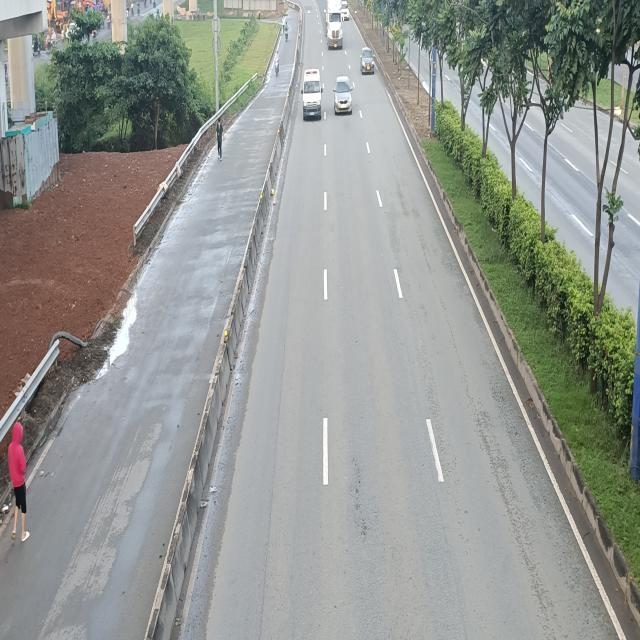car: (334, 76, 353, 114), (359, 48, 375, 76)
container: (325, 1, 343, 51)
van: (302, 69, 323, 120)
